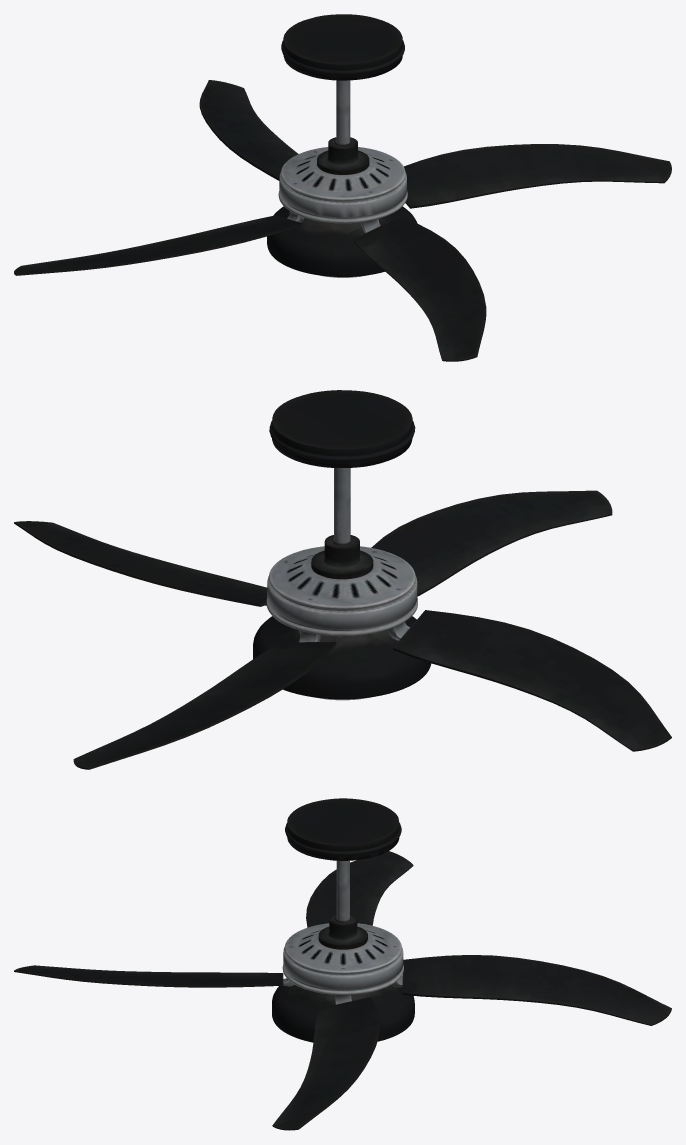
The model's file is ceiling_fan.glb.
3 views of the same model, one above another, from view 1: azimuth 30°, elevation 25°; view 2: azimuth 150°, elevation 25°; view 3: azimuth 270°, elevation 25° (orthographic). The views are drawn at different scales.
Parts seen in each view (by area): view 1: ceiling_fan_blades, ceiling_fan; view 2: ceiling_fan_blades, ceiling_fan; view 3: ceiling_fan_blades, ceiling_fan.
Part boxes in pixels (bbox=[...]): ceiling_fan_blades: bbox=[14, 80, 671, 361]; ceiling_fan: bbox=[267, 14, 417, 277]; ceiling_fan_blades: bbox=[14, 490, 671, 769]; ceiling_fan: bbox=[253, 390, 431, 700]; ceiling_fan_blades: bbox=[14, 851, 671, 1130]; ceiling_fan: bbox=[272, 798, 414, 1042].
Size of the model in its own units: 1.46 by 0.5163 by 1.46.
Materials: 1 (1 with a texture image).
